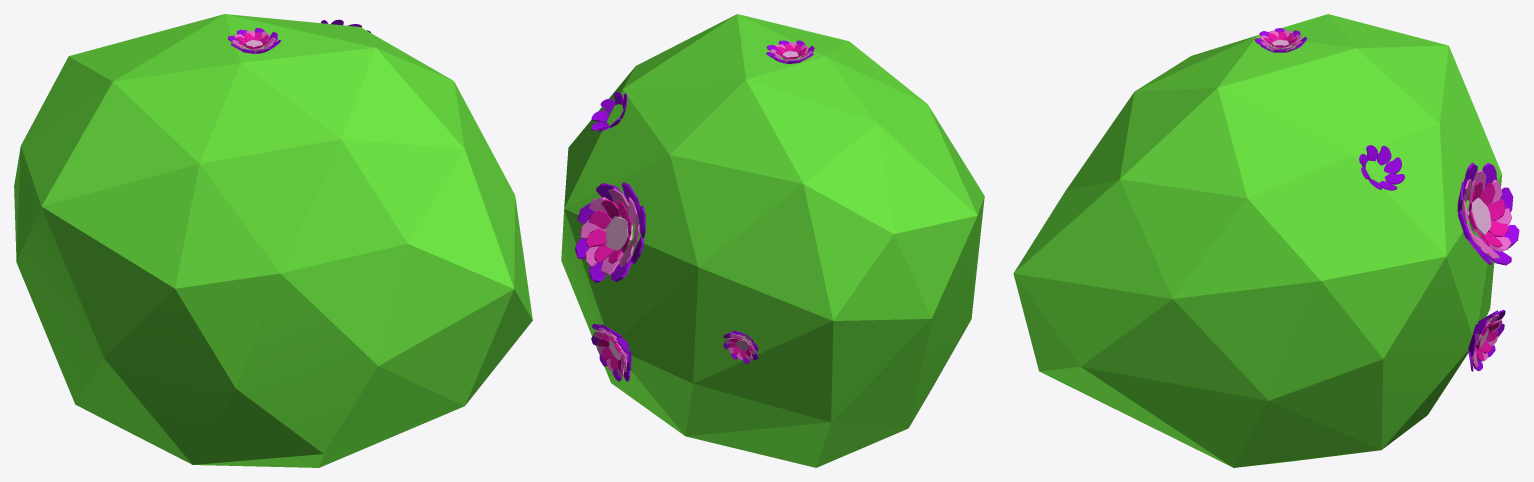
Rendered from zbunpark1.fbx.
The picture shows the model from 3 angles, left to right: view 1: azimuth 30°, elevation 25°; view 2: azimuth 150°, elevation 25°; view 3: azimuth 270°, elevation 25°; orthographic projection. The views are drawn at different scales.
Visible parts, largest first — view 1: zbun park1; view 2: zbun park1; view 3: zbun park1.
Part boxes in pixels (x1,y1,x2,y2): zbun park1: [14, 14, 532, 467]; zbun park1: [561, 14, 984, 467]; zbun park1: [1013, 14, 1519, 467].
Bounding box in the file's own units: 205 × 192 × 217.
